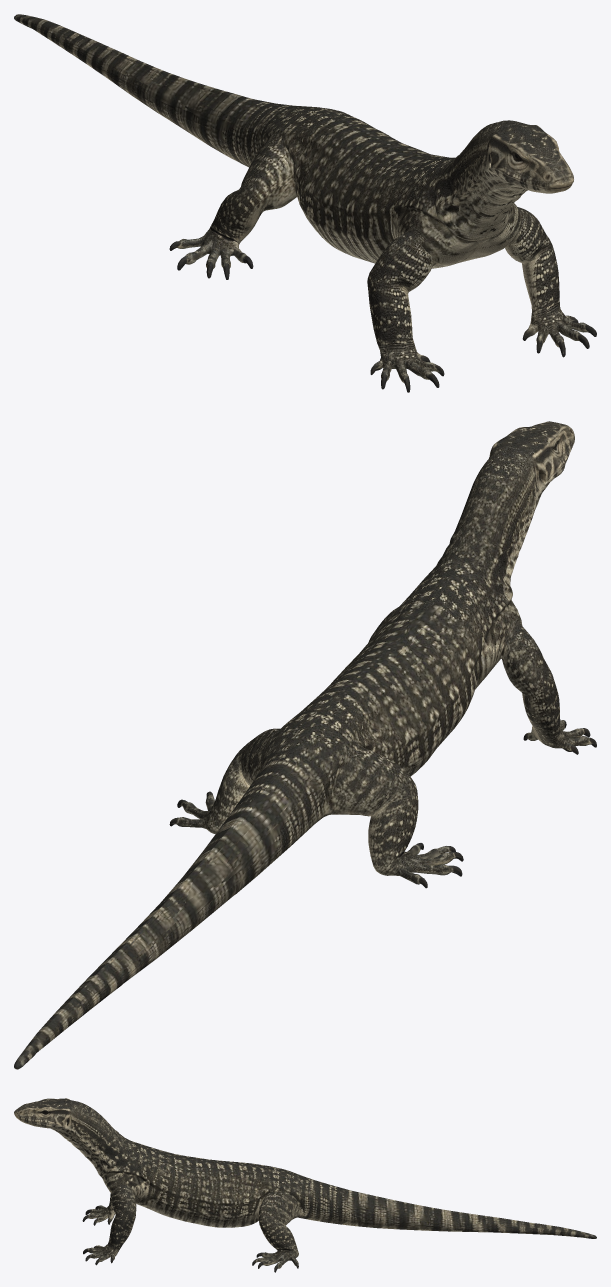
File: nile-monitor.glb
3 renders of one model, top to bottom at view 1: azimuth 30°, elevation 25°; view 2: azimuth 150°, elevation 25°; view 3: azimuth 270°, elevation 25°, orthographic. The views are drawn at different scales.
Size of the model in its own units: 0.5666 by 0.493 by 1.9.
1 material, 1 textured.
